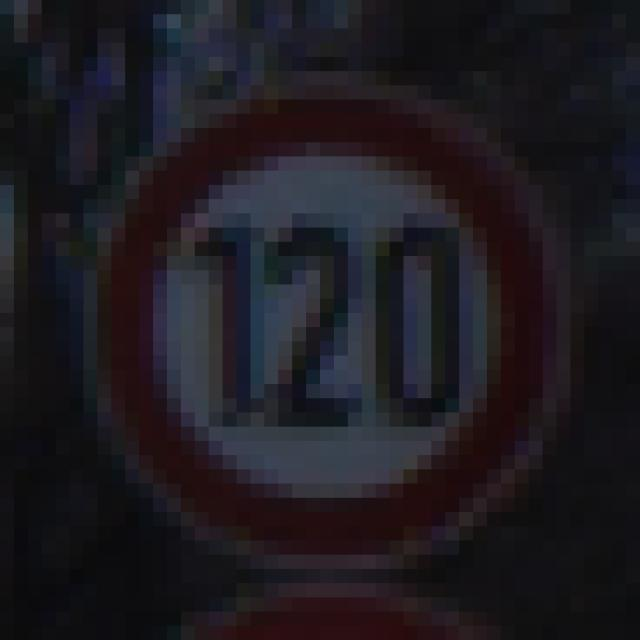Ograniczenie predkosci do 120: (83, 79, 567, 573)
